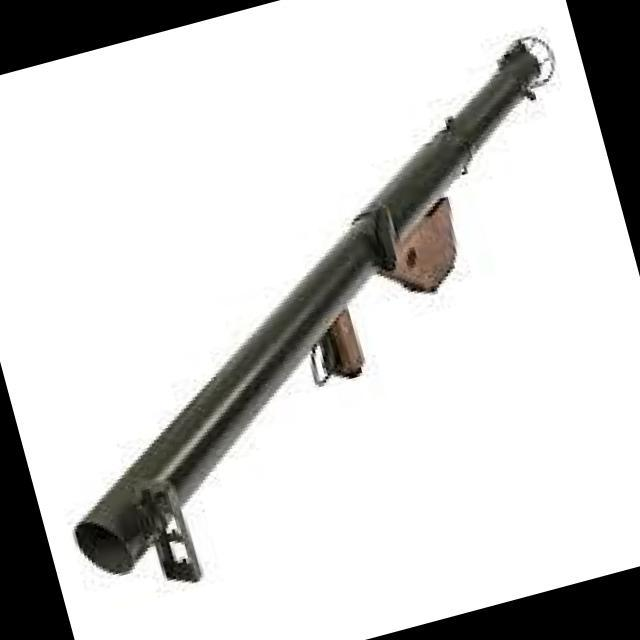rocket: (0, 28, 640, 610)
